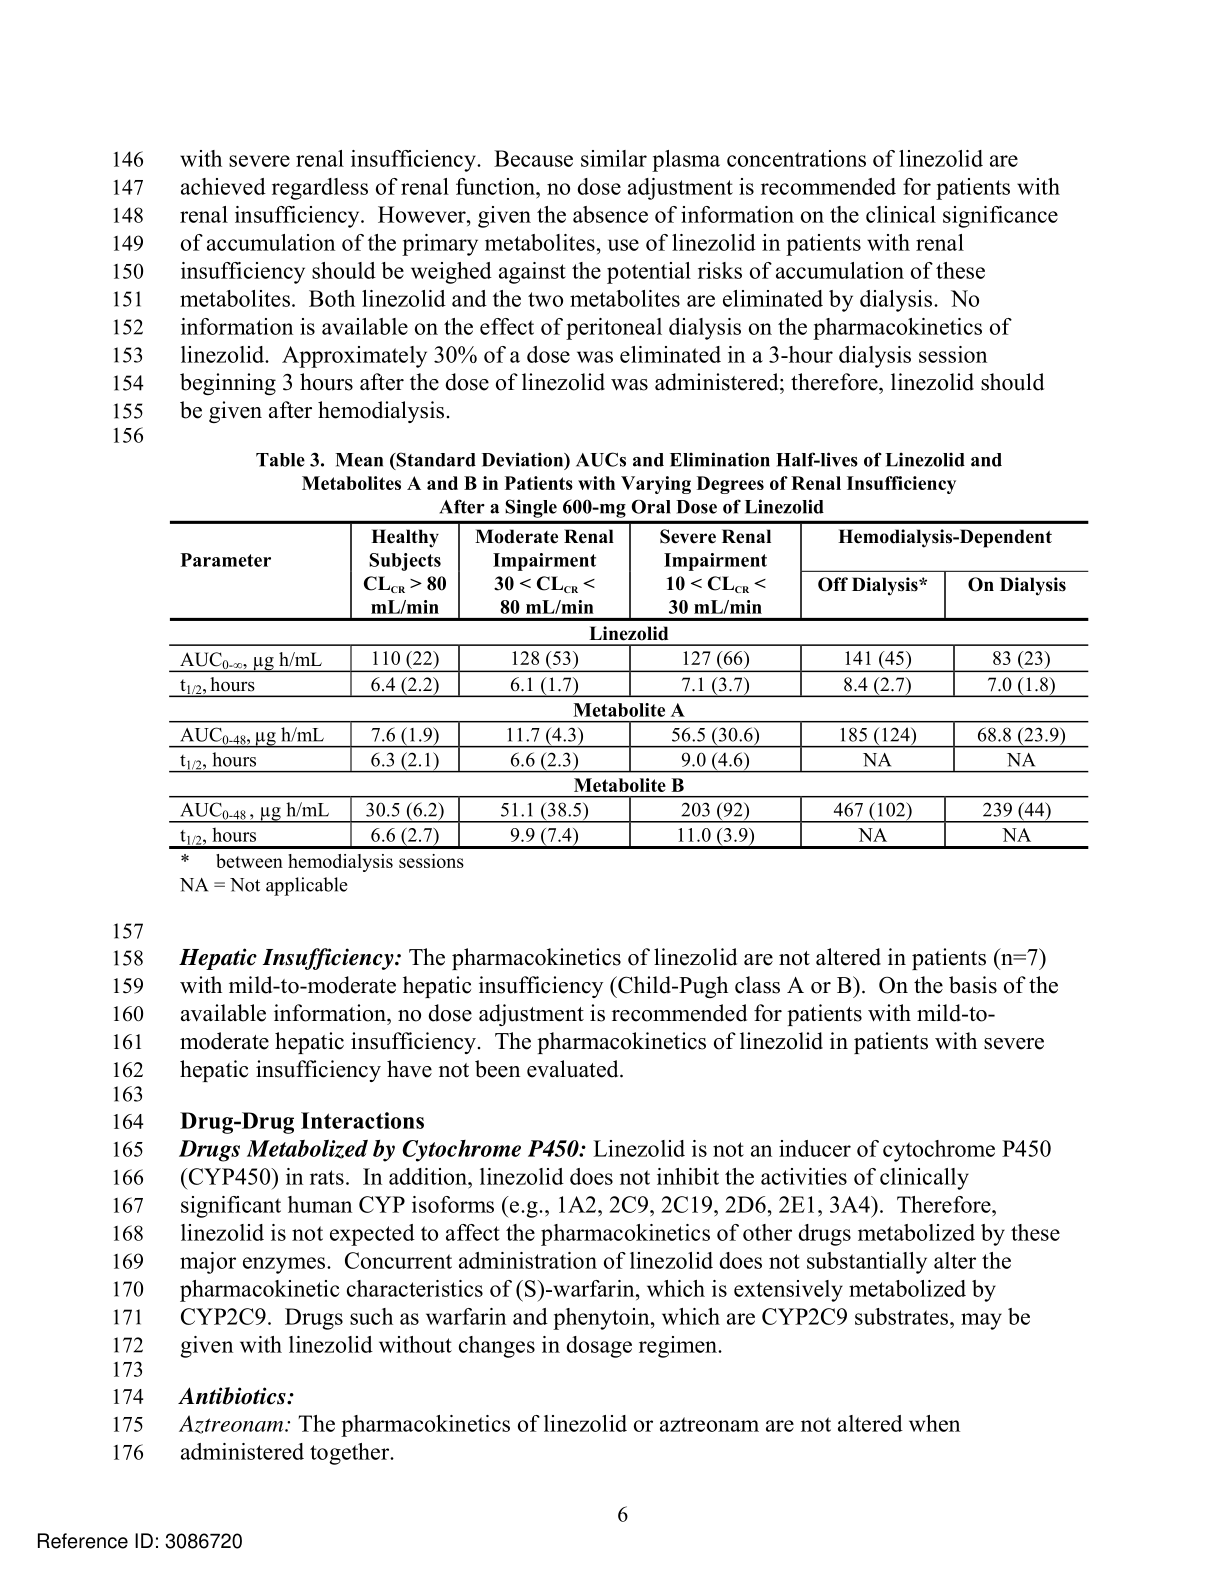partial_lined_merged_cells: (166, 519, 1092, 850)
